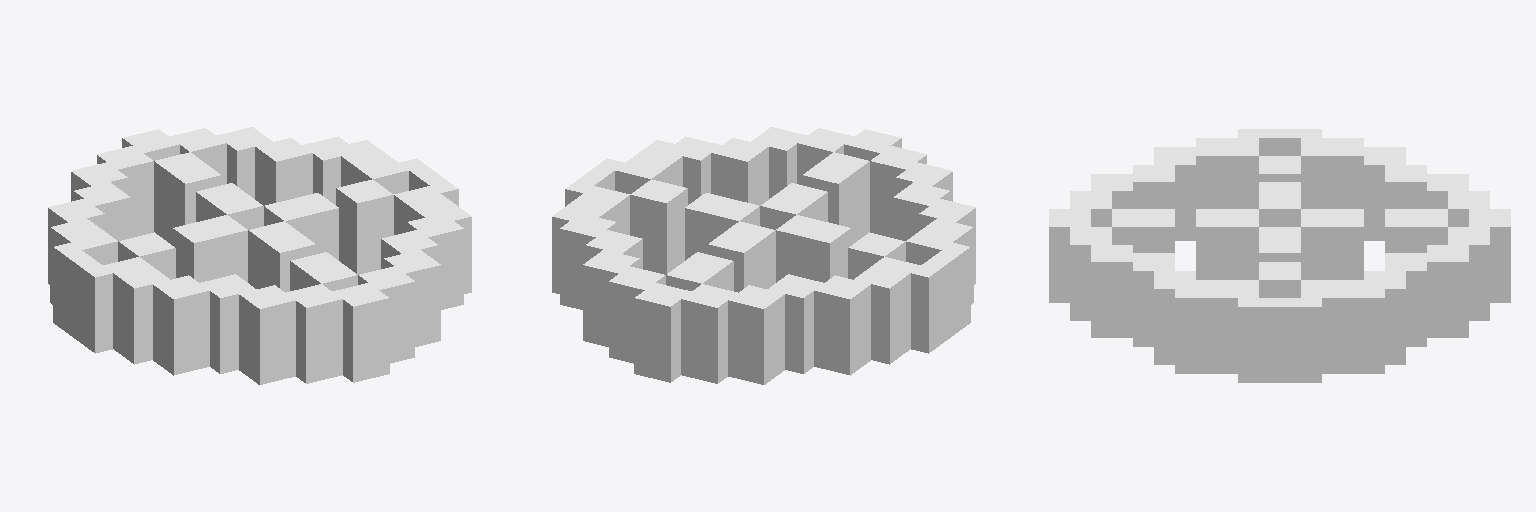
The model's file is aim.obj.
The picture shows the model from 3 angles: view 1: azimuth 30°, elevation 25°; view 2: azimuth 150°, elevation 25°; view 3: azimuth 270°, elevation 25°; orthographic projection.
Parts seen in each view (by area): view 1: aim; view 2: aim; view 3: aim.
Boxes of the visible parts, x1=… form: aim: x1=48, y1=127, x2=471, y2=384; aim: x1=552, y1=127, x2=975, y2=384; aim: x1=1049, y1=129, x2=1510, y2=382.
Bounding box in the file's own units: 20 × 4 × 22.